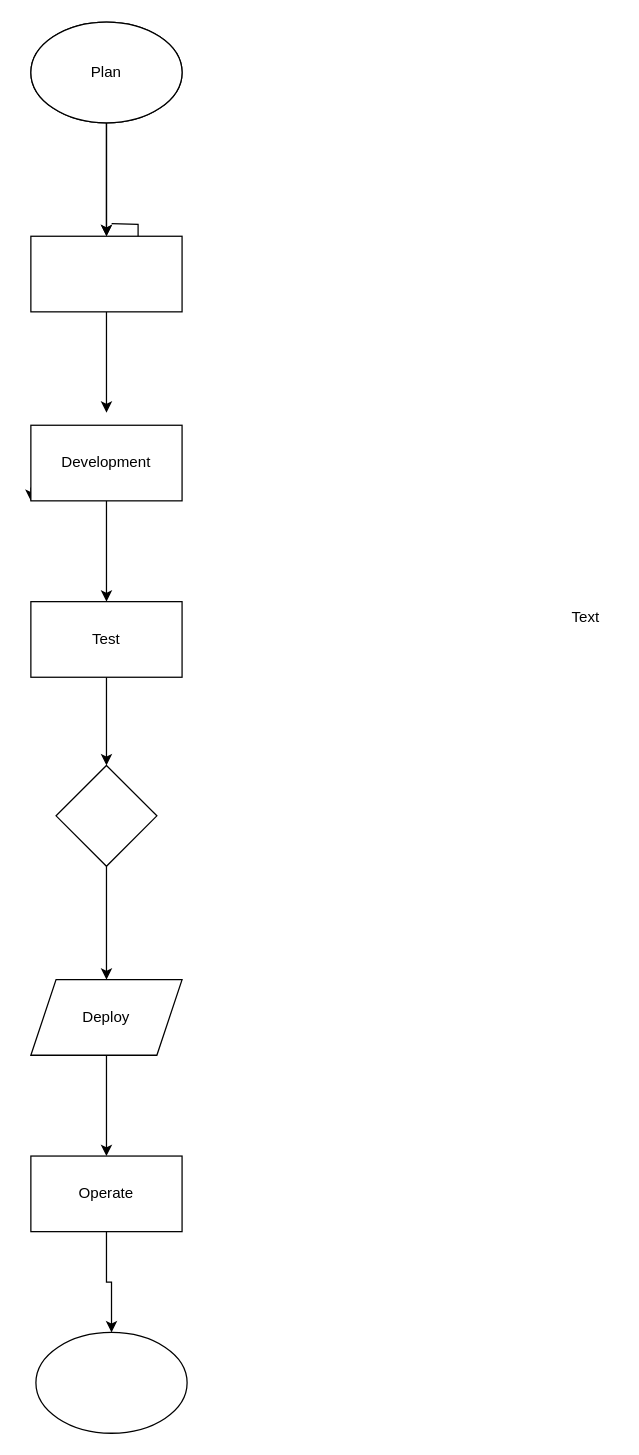
Image size: 639x1455. Some labels were removed from this diagram. The box of each missing label's shape, as (x1, y1, x2, y2) in pixels:
Build: (30, 235, 182, 312)
Monitor: (35, 1331, 187, 1433)
Release: (55, 764, 157, 866)
